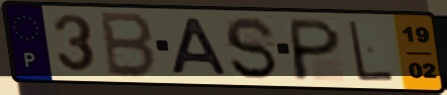3: (50, 12, 96, 75)
A: (169, 16, 231, 79)
B: (99, 10, 159, 81)
L: (346, 18, 397, 83)
P: (289, 17, 344, 83)
S: (222, 15, 281, 82)
